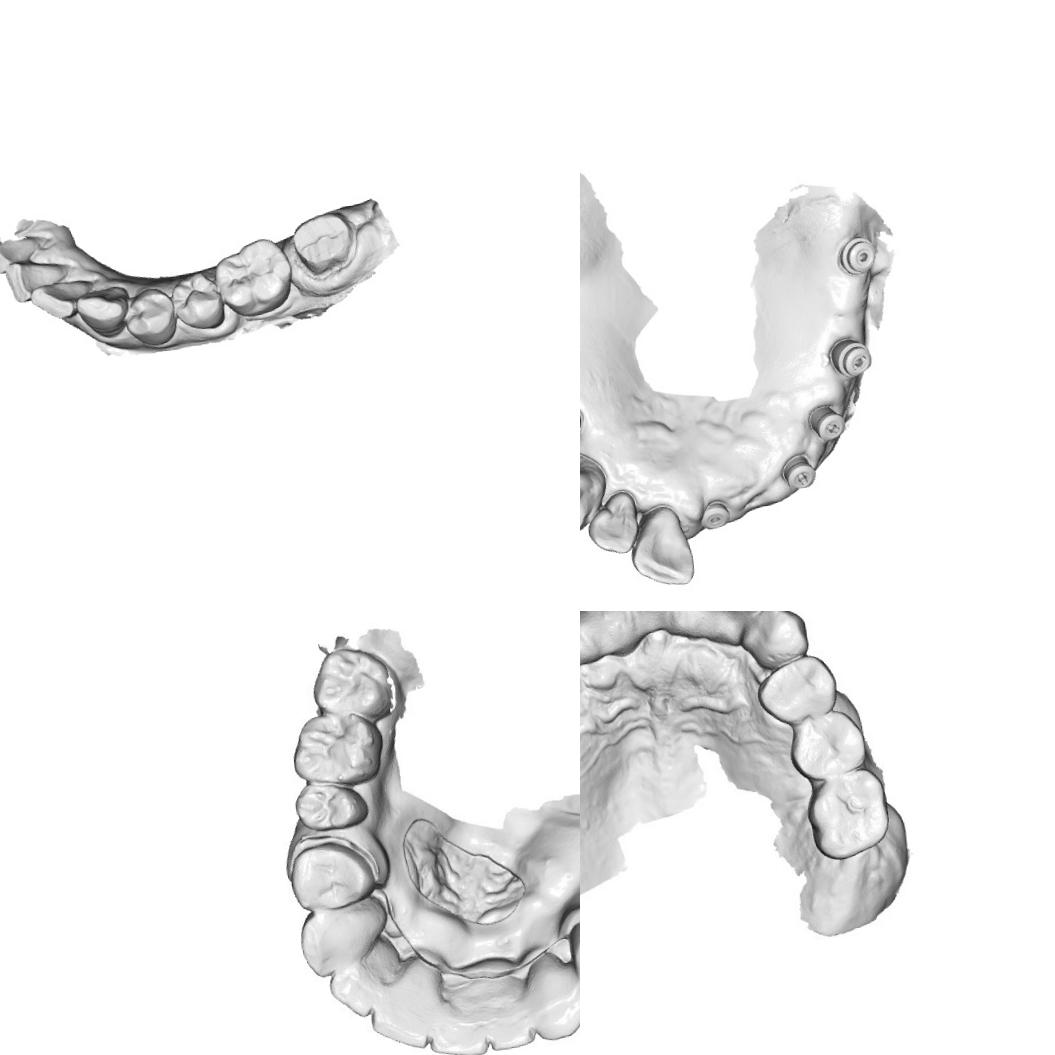canine: (296, 896, 392, 981), (520, 950, 580, 1046), (745, 611, 812, 668), (76, 284, 130, 340), (580, 449, 611, 535)
crown: (286, 208, 362, 281)
implant: (836, 234, 878, 278), (697, 498, 732, 532)
implant_minus: (825, 334, 874, 380), (804, 402, 848, 444), (778, 450, 818, 492)
incisor: (626, 500, 696, 591), (364, 978, 438, 1055), (419, 989, 493, 1055), (476, 977, 536, 1054), (584, 488, 642, 558), (324, 956, 382, 1026), (1, 253, 76, 305), (24, 276, 102, 324), (0, 226, 47, 280), (583, 611, 658, 635), (703, 611, 765, 635), (580, 611, 602, 671), (645, 611, 719, 627)
molar: (801, 766, 894, 864), (286, 706, 390, 793), (306, 640, 401, 726), (209, 232, 296, 321)
premolar: (280, 834, 380, 918), (754, 650, 839, 729), (785, 706, 870, 782), (285, 778, 373, 836), (167, 266, 230, 334), (120, 283, 182, 350), (560, 913, 580, 1005)
